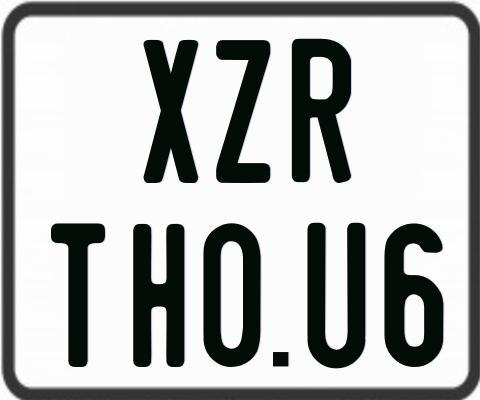0: (203, 220, 267, 369)
6: (382, 222, 444, 371)
H: (131, 222, 185, 367)
R: (289, 36, 354, 186)
T: (49, 222, 108, 371)
U: (304, 220, 364, 369)
X: (142, 37, 199, 181)
Z: (214, 38, 268, 183)
